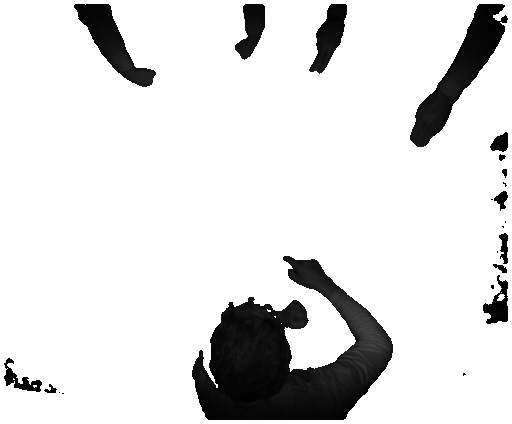fist: (283, 300, 311, 334), (232, 39, 259, 63), (133, 67, 159, 87)
hand: (304, 23, 351, 79), (408, 95, 450, 151), (280, 256, 329, 289)
